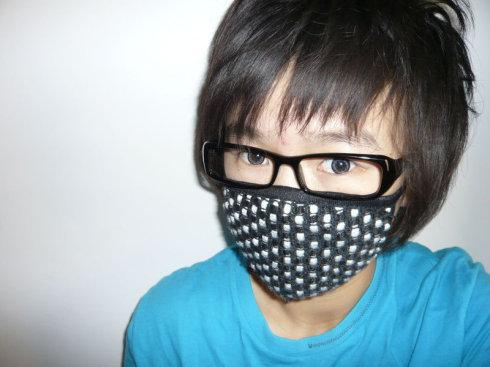OK: (210, 119, 388, 297)
